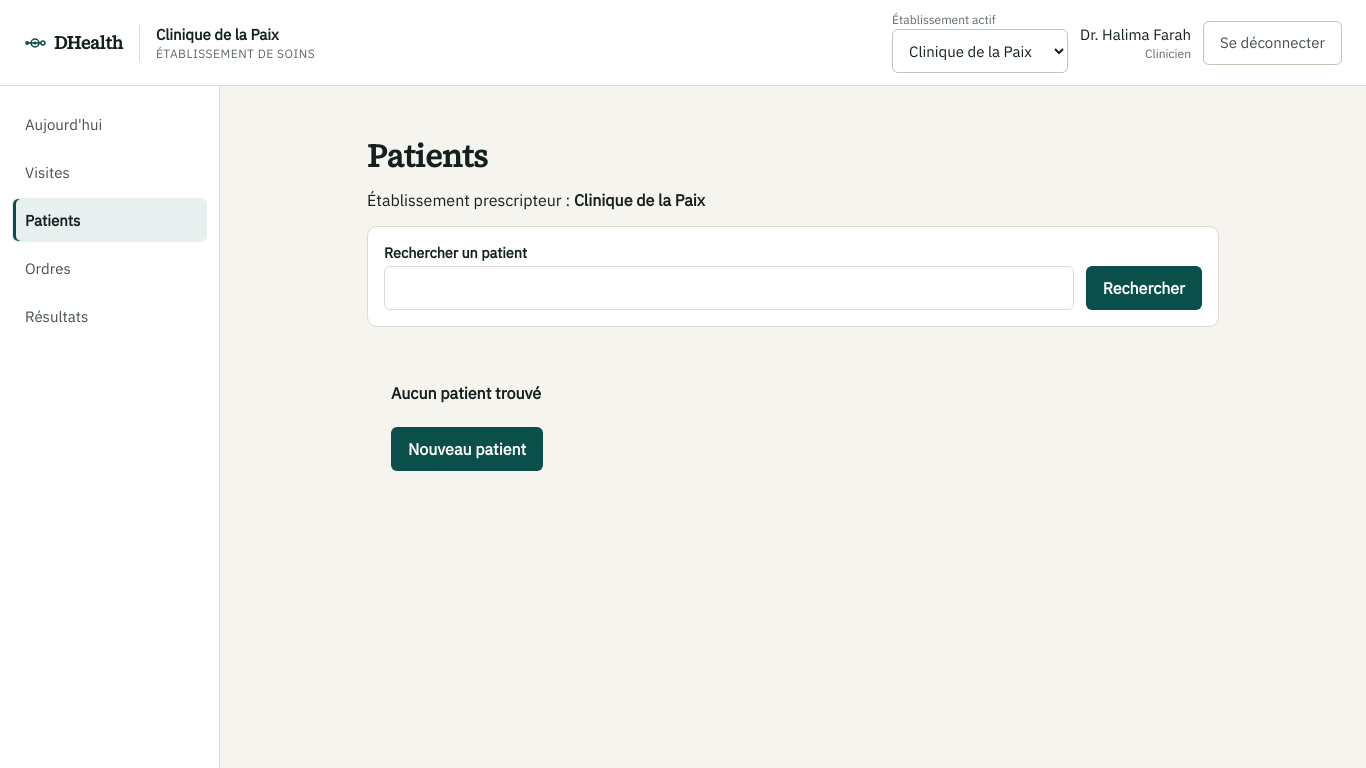
Test: changing establishment › OS6: a section the new establishment does not have is left behind, not rendered against it
The image size is (1366, 768).
Select "Laboratoire Central" in the dropdown labelled "Établissement actif". click: (980, 51)
box: [892,29,1068,73]
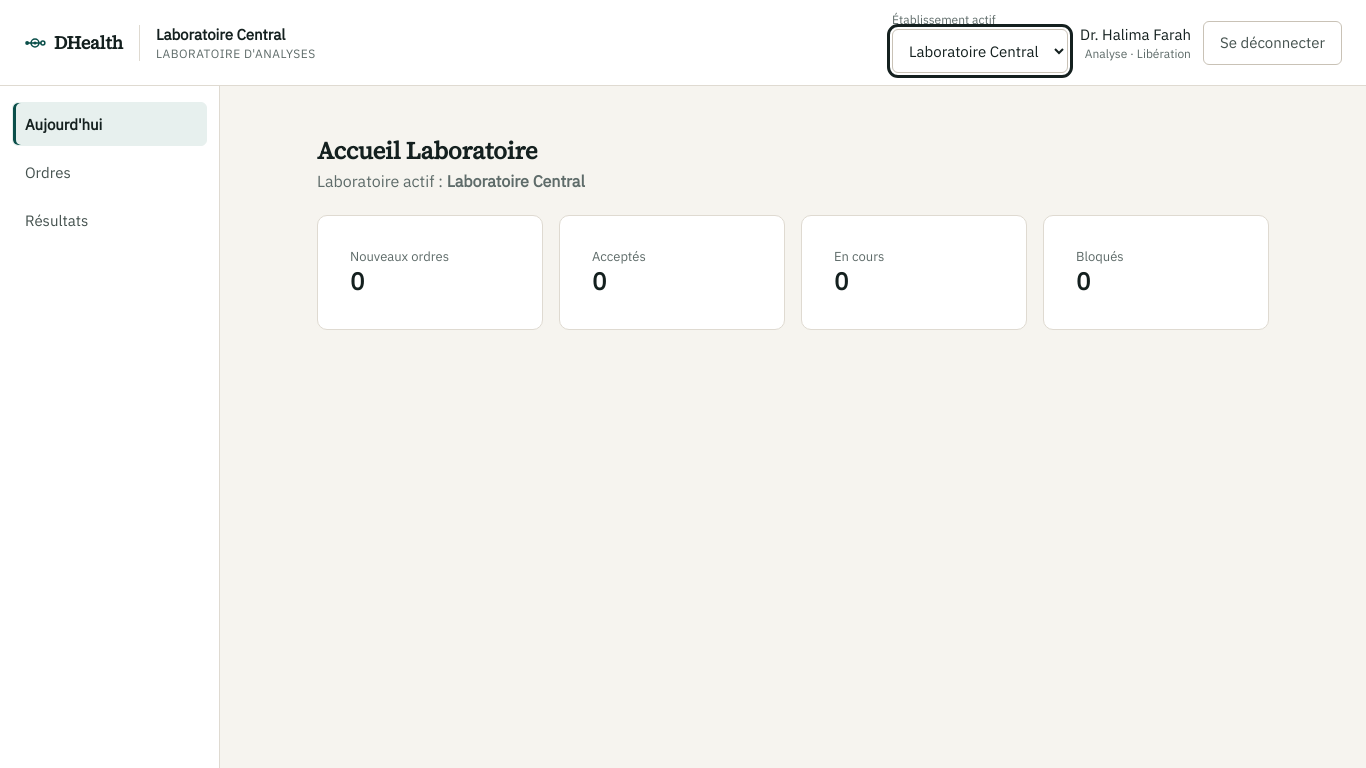
Now the button "Patients" is gone
Now the label labelled "Rechercher un patient" is gone
